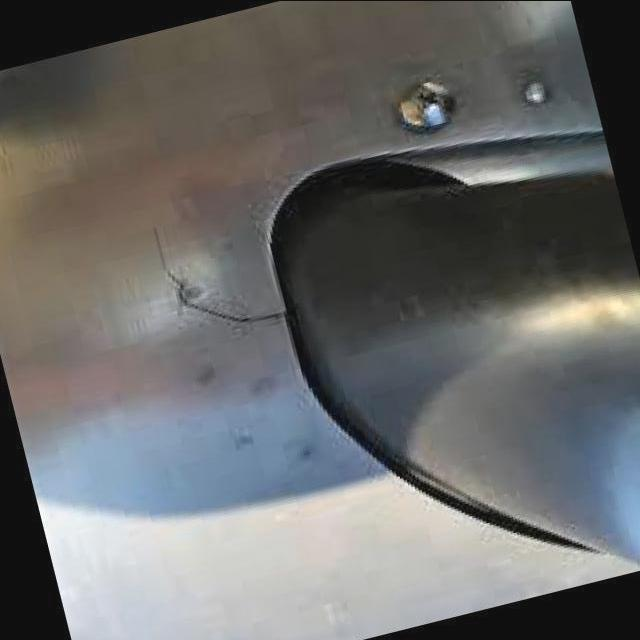defect: (147, 221, 287, 326)
